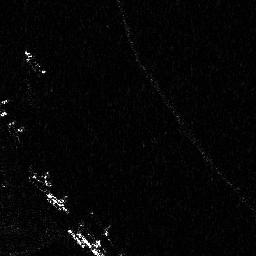ship: (23, 49, 47, 75)
